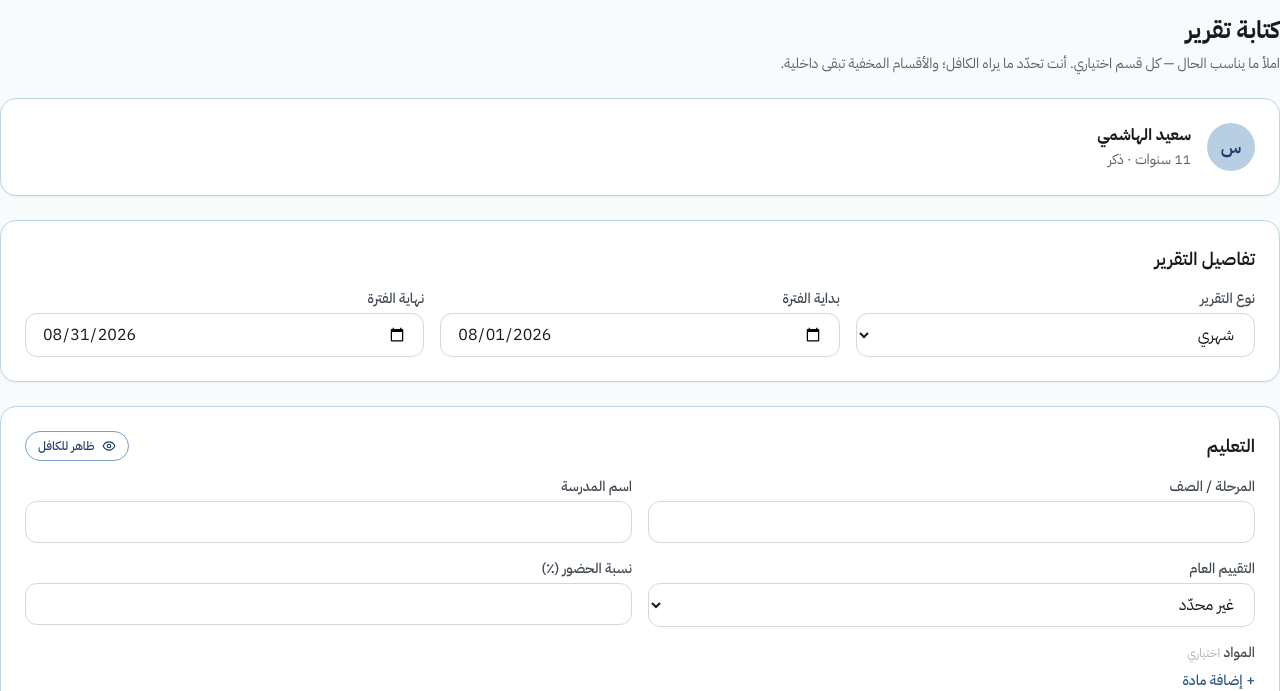
Test: OrphanageManagerReportPage — validation › blocks submit when the period end precedes the start
The width and height of the screenshot is (1280, 691).
Check: the text "سعيد الهاشمي" is shown, box left=1097, top=123, right=1191, bottom=147
// End before start → inline error, no network call.
Type "2026-05-20" into the date field labelled "بداية الفترة". click: (640, 335)
box: left=440, top=313, right=840, bottom=357
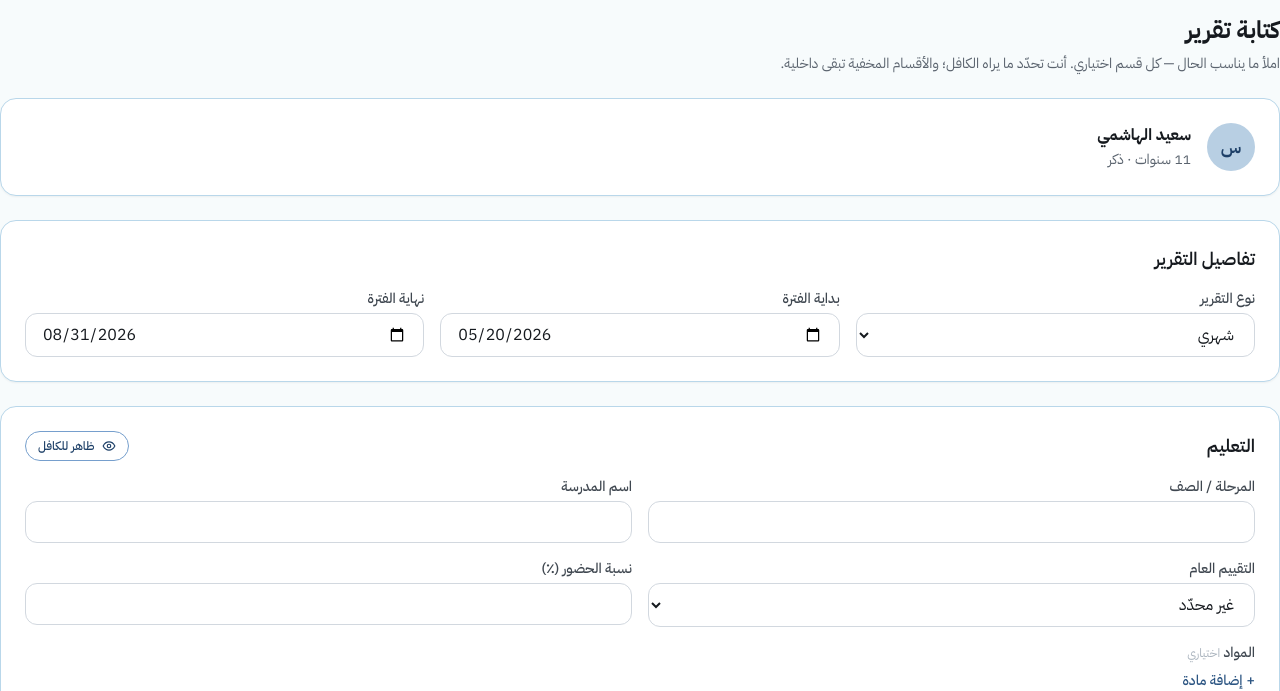
Type "2026-05-01" into the date field labelled "نهاية الفترة". click: (225, 335)
box: left=25, top=313, right=424, bottom=357
(page scrolled)
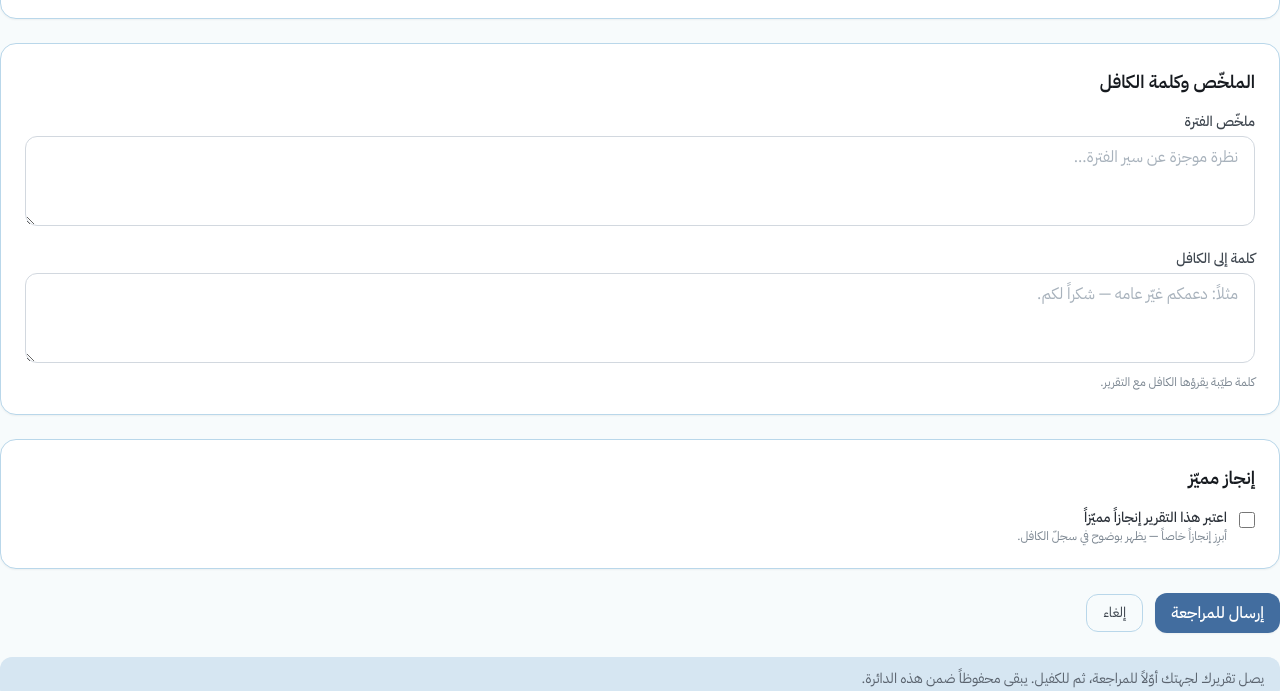
Click the button "إرسال للمراجعة". click: (1218, 613)
box: left=1155, top=593, right=1279, bottom=633
(page scrolled)
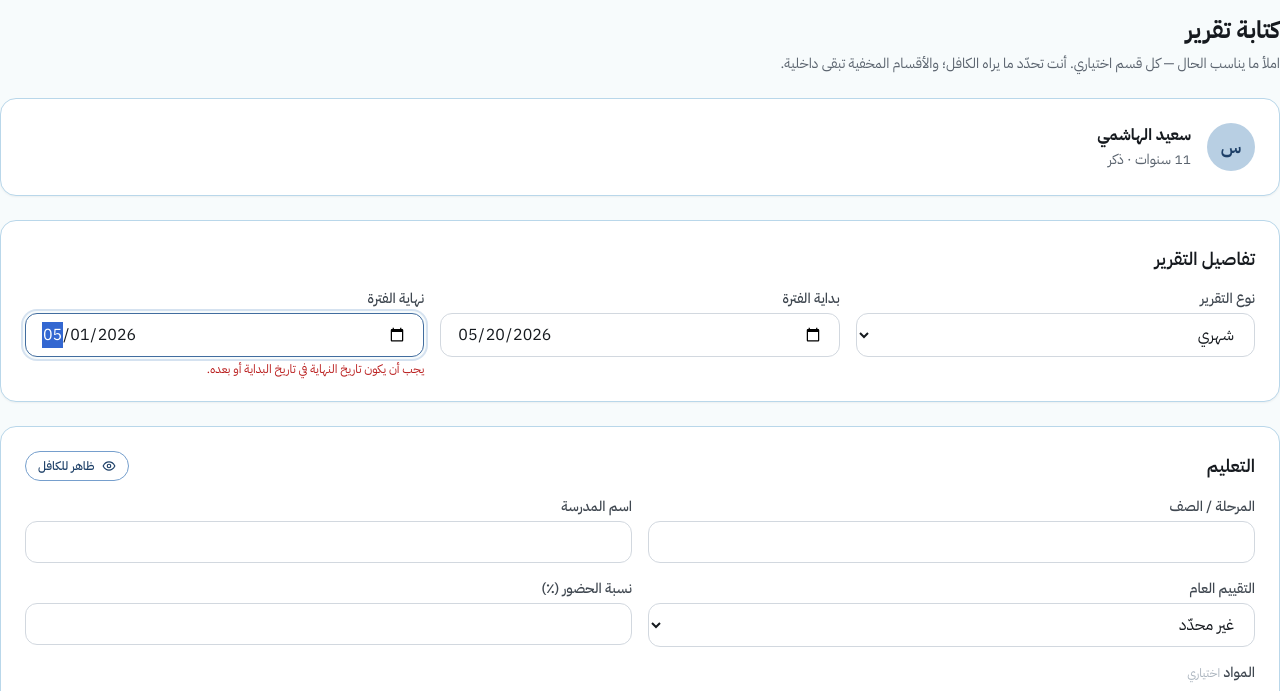
Check: the text "يجب أن يكون تاريخ النهاية في تاريخ البداية أو بعده." is shown, box left=207, top=360, right=424, bottom=378
